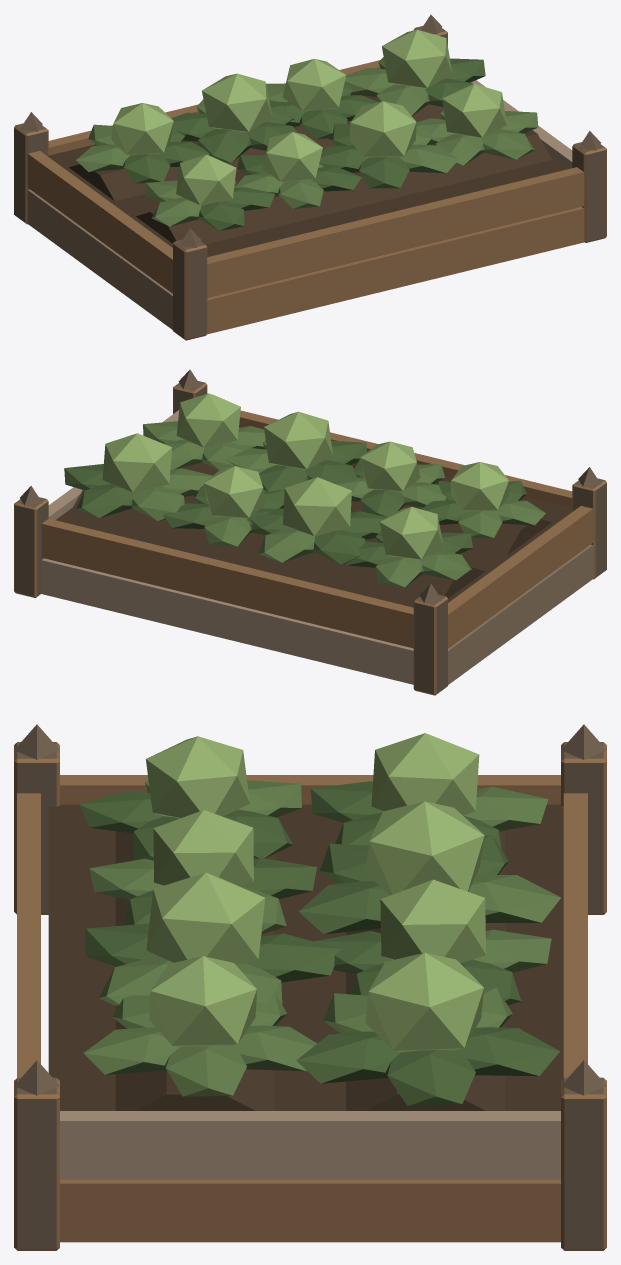
Rendered from garden_bed_2.glb.
The picture shows the model from 3 angles, top to bottom: view 1: azimuth 30°, elevation 25°; view 2: azimuth 150°, elevation 25°; view 3: azimuth 270°, elevation 25°; orthographic projection. The views are drawn at different scales.
Visible parts, largest first — view 1: Garden_Bed_2; view 2: Garden_Bed_2; view 3: Garden_Bed_2.
Part boxes in pixels (x1=…): Garden_Bed_2: x1=14, y1=14, x2=606, y2=340; Garden_Bed_2: x1=14, y1=369, x2=606, y2=695; Garden_Bed_2: x1=14, y1=724, x2=606, y2=1250.
Bounding box in the file's own units: 1.46 × 0.4593 × 1.03.
